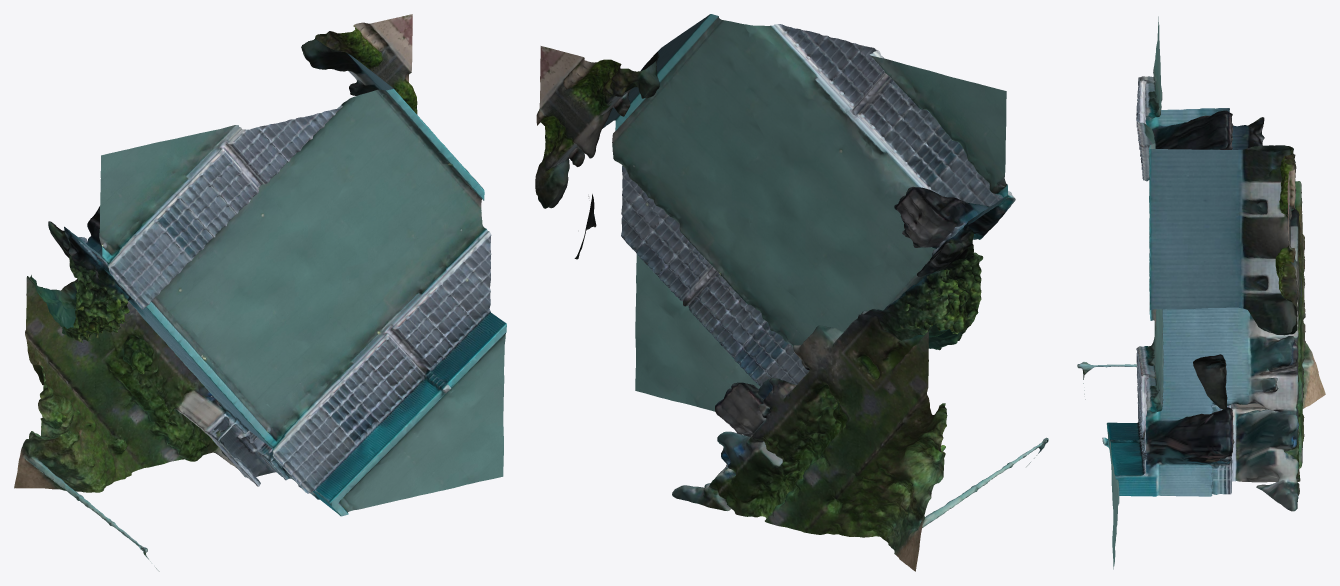
The model's file is Tile_+019_+008.fbx.
The picture shows the model from 3 angles, left to right: view 1: azimuth 30°, elevation 25°; view 2: azimuth 150°, elevation 25°; view 3: azimuth 270°, elevation 25°; orthographic projection. The views are drawn at different scales.
Parts seen in each view (by area): view 1: DefaultName; view 2: DefaultName; view 3: DefaultName.
Part boxes in pixels (<box>): DefaultName: <box>14,14,506,571</box>; DefaultName: <box>535,14,1048,571</box>; DefaultName: <box>1077,16,1325,569</box>.
Bounding box in the file's own units: 22.54 × 22.54 × 13.35.
